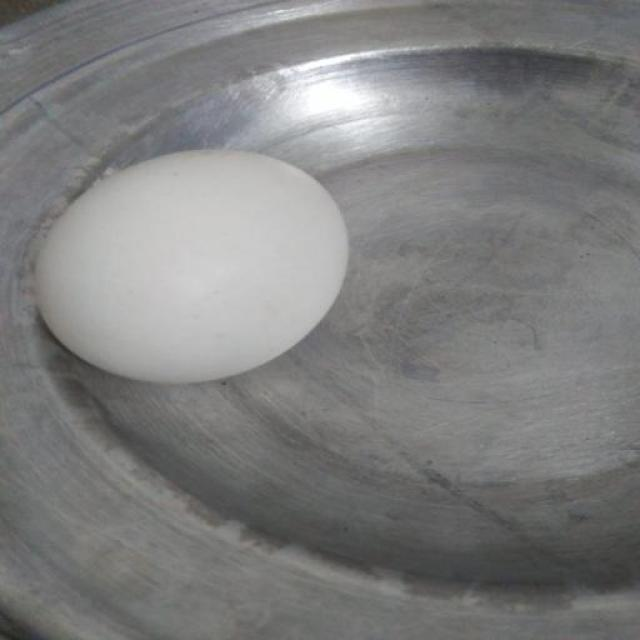telur: (35, 148, 353, 382)
